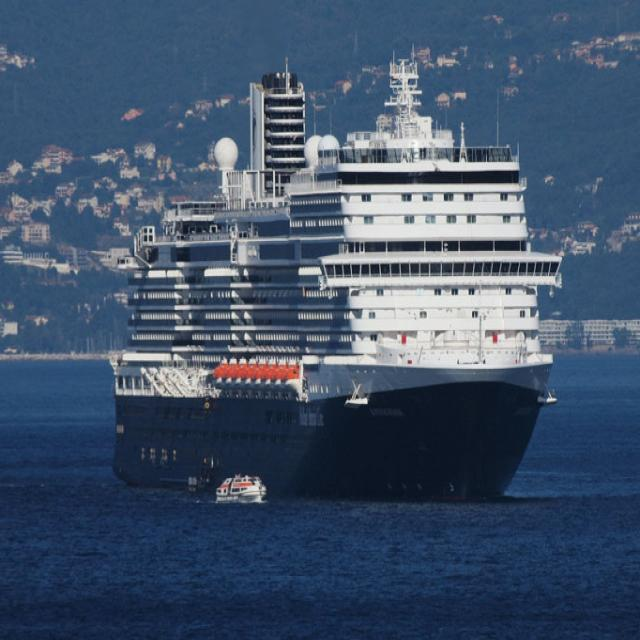cruises: (111, 57, 564, 512)
